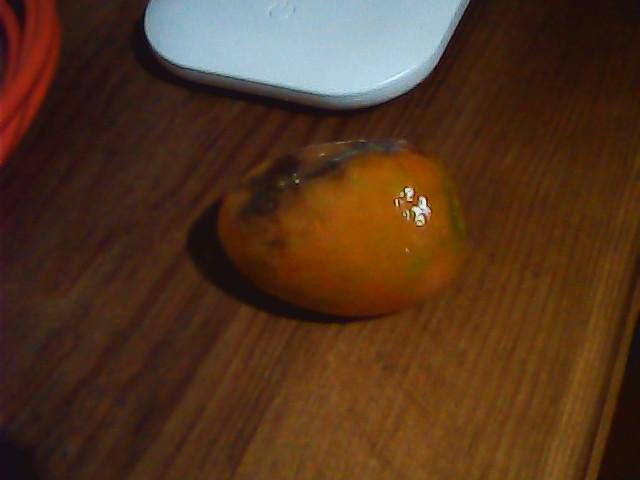defectuoso: (215, 138, 471, 320)
